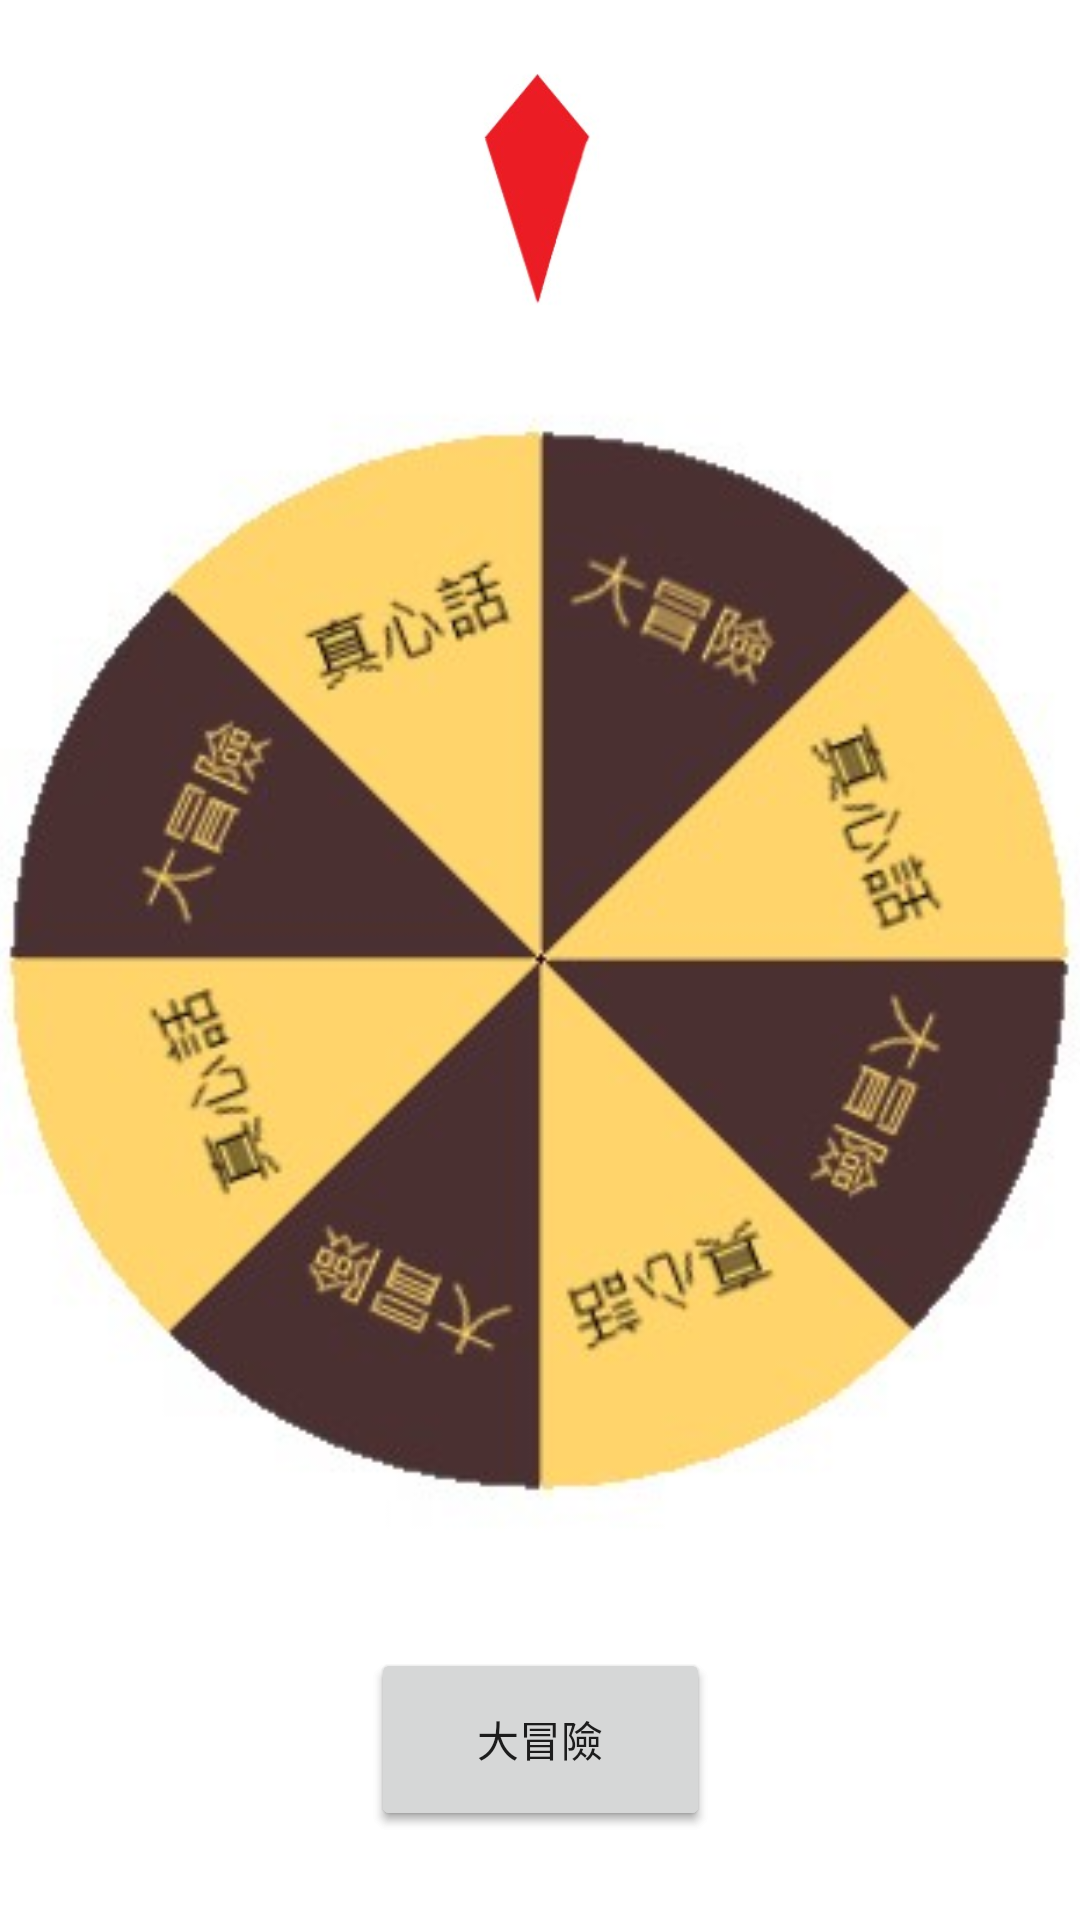

Locate icon controls on the screen. Image size 1080px×1920px, boxes as {"x1": x1, "y1": y1, "x2": x2, "y2": y2}.
arrow: {"x1": 484, "y1": 74, "x2": 590, "y2": 303}
